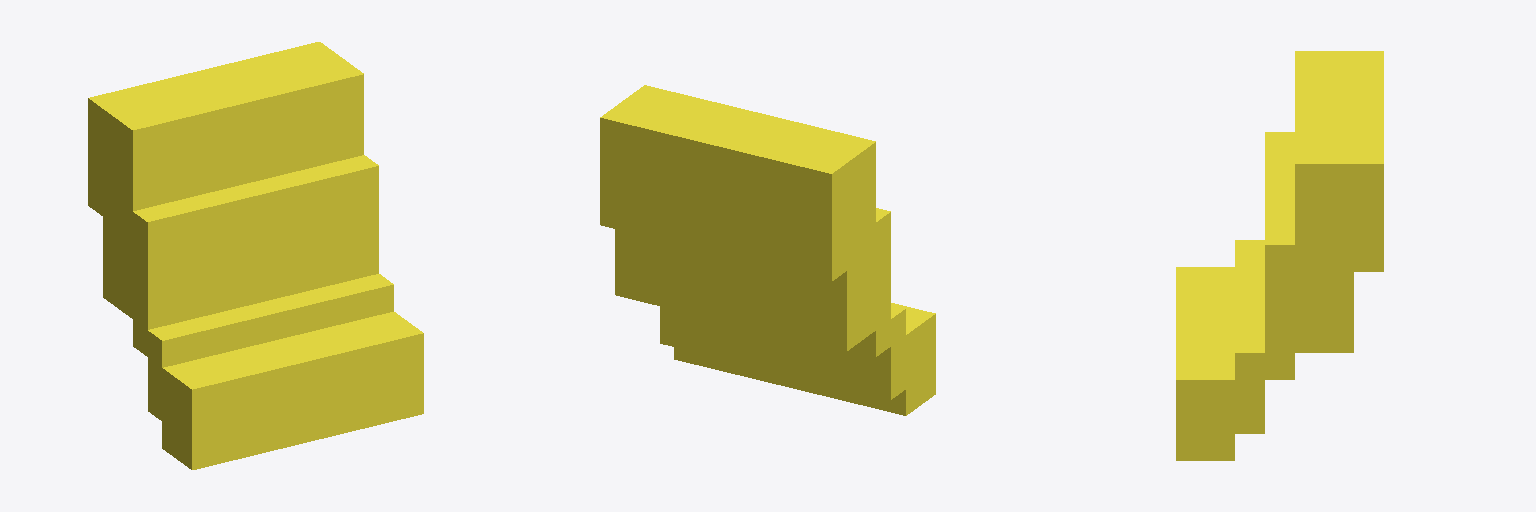
The picture shows the model from 3 angles: view 1: azimuth 30°, elevation 25°; view 2: azimuth 150°, elevation 25°; view 3: azimuth 270°, elevation 25°; orthographic projection.
Visible parts, largest first — view 1: ala2; view 2: ala2; view 3: ala2.
Boxes of the visible parts, x1=… form: ala2: x1=88, y1=42, x2=423, y2=469; ala2: x1=600, y1=85, x2=935, y2=415; ala2: x1=1176, y1=51, x2=1383, y2=460.
Size of the model in its own units: 3.31 by 4.05 by 2.58.
1 materials, 1 textured.